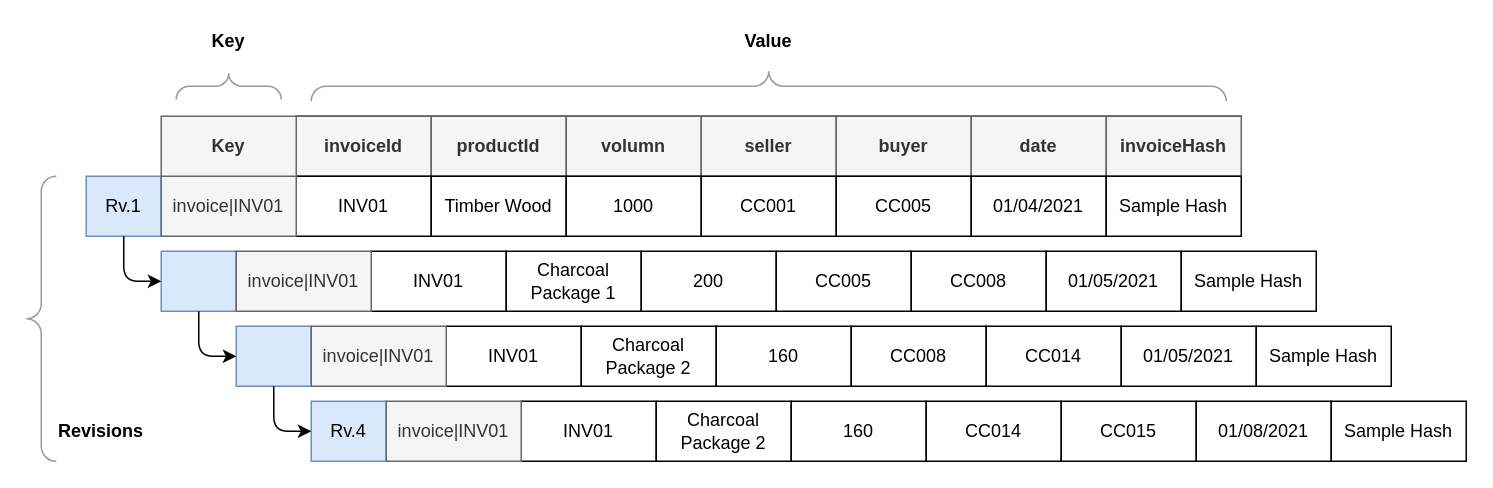
Image size: 1493x488. Some labels were removed from this diagram. Each missing label, with the box of its shape:
Rv.2: (160, 250, 236, 311)
Rv.3: (235, 325, 311, 386)
